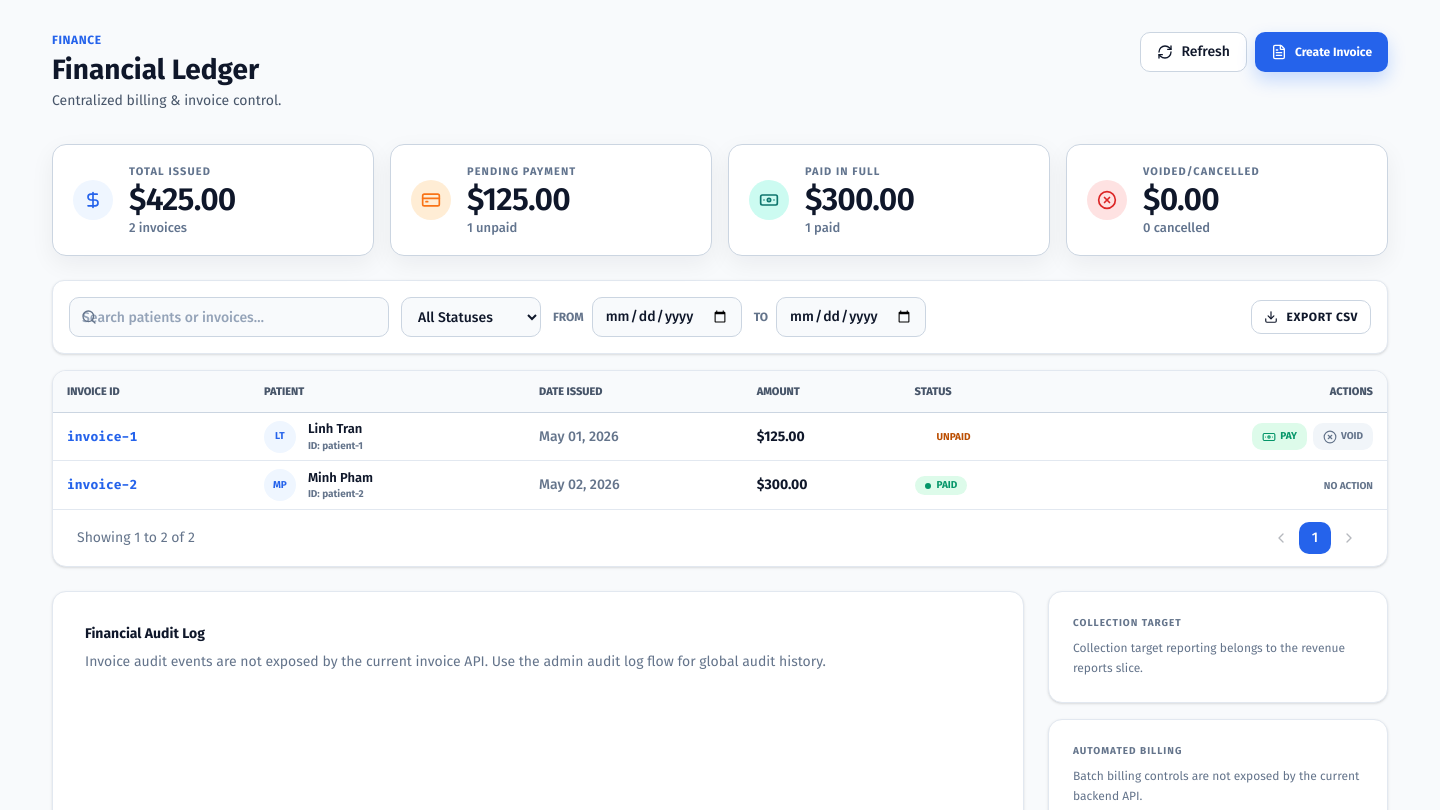
Test: InvoicesPage › filters visible invoices by search text
Expected: the text "Linh Tran" is shown, [308, 421, 362, 436]
Type "minh" into the search field labelled "Search patients or invoices…".
click(229, 317); type("minh")  # box [69, 297, 389, 337]
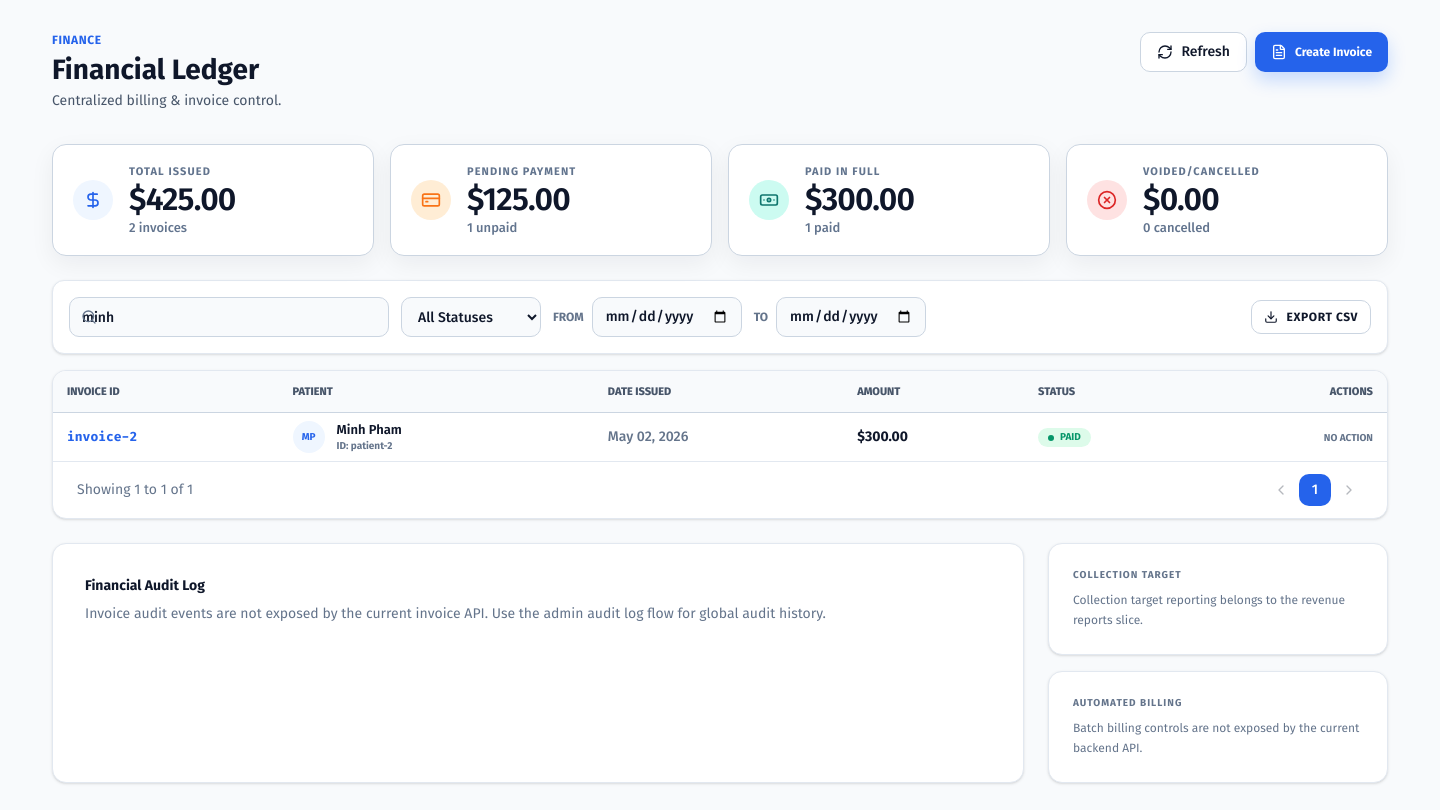
Expected: the text "Minh Pham" is shown, [337, 422, 402, 437]
Now the text "Linh Tran" is gone
